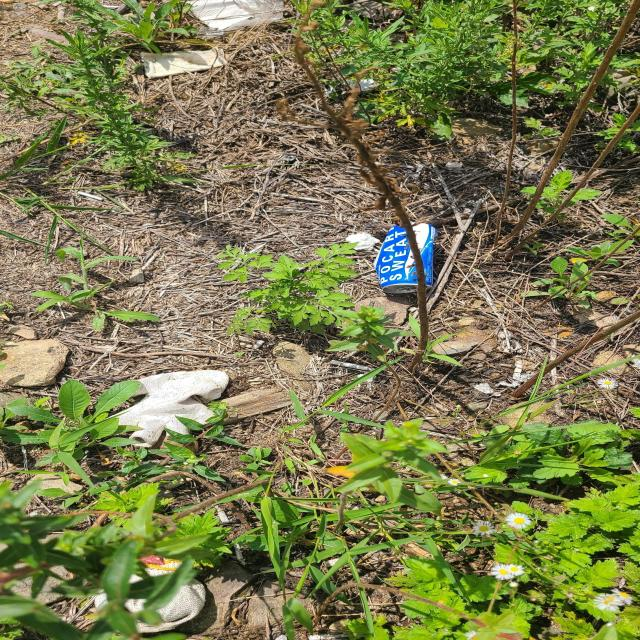litter: (380, 227, 436, 291)
